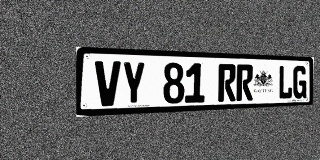1: (185, 63, 205, 103)
8: (163, 62, 184, 104)
G: (293, 66, 307, 99)
L: (278, 65, 293, 99)
R: (218, 64, 236, 102), (236, 64, 253, 101)
V: (95, 61, 121, 106)
Y: (121, 61, 145, 105)
